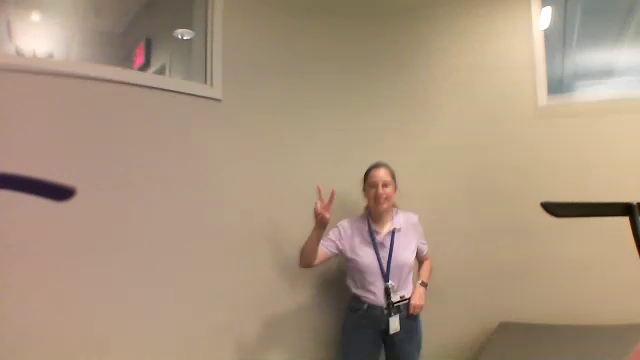peace: (309, 181, 341, 227)
